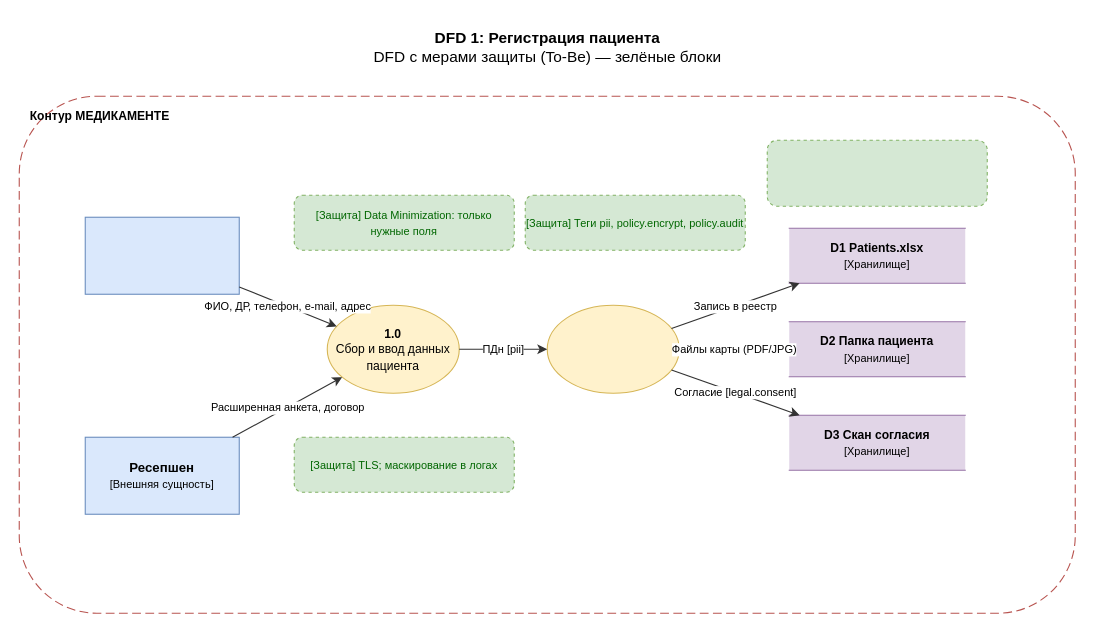
Image size: 1095x633. Some labels were removed from this diagram. Here are the shapes that lost their labels. From the top down, the centre of each, then its label:
At [876,172]: "[Защита] AES-256 at rest; UUID вместо ФИО в пути".
At [161,255]: "Пациент [Внешняя сущность]".
At [612,348]: "2.0 Регистрация в системе".
